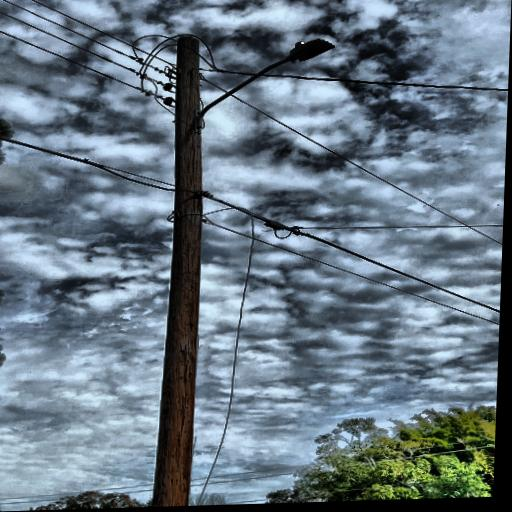pole: (121, 29, 219, 508)
street light: (190, 37, 339, 132)
